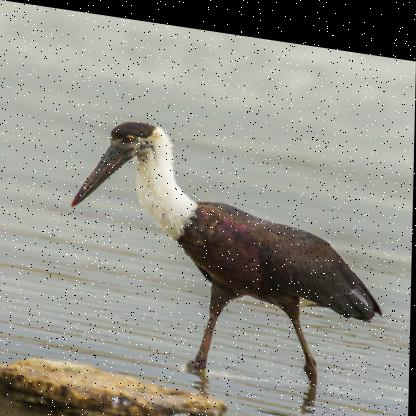Burung: (68, 105, 392, 396)
